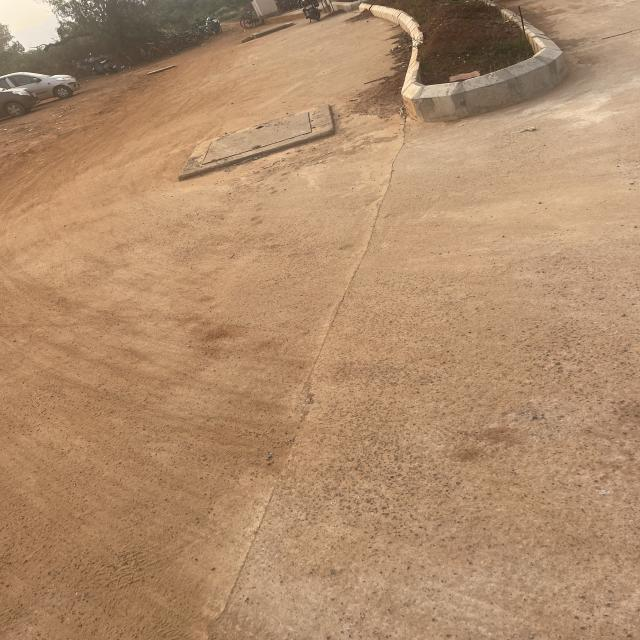D40: (143, 148, 478, 626)
